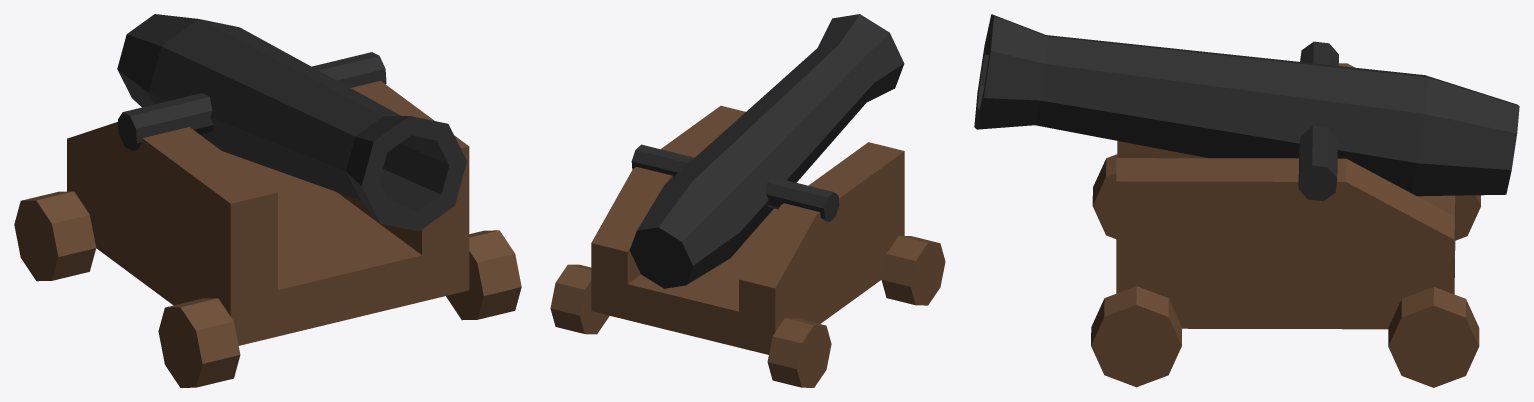
The model's file is Cannon_mat.fbx.
3 renders of one model, left to right at view 1: azimuth 30°, elevation 25°; view 2: azimuth 150°, elevation 25°; view 3: azimuth 270°, elevation 25°, orthographic. The views are drawn at different scales.
Parts seen in each view (by area): view 1: Cannon_mat; view 2: Cannon_mat; view 3: Cannon_mat.
Part boxes in pixels (x1,y1,x2,y2): Cannon_mat: [14, 14, 521, 387]; Cannon_mat: [550, 14, 945, 387]; Cannon_mat: [974, 14, 1519, 387].
Bounding box in the file's own units: 45.63 × 38.87 × 65.93.
